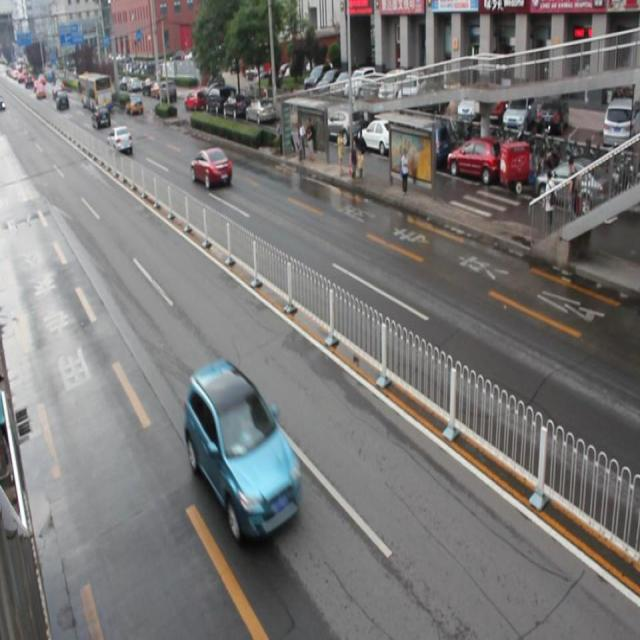car: (184, 362, 303, 540), (189, 147, 232, 188), (108, 126, 133, 153)
